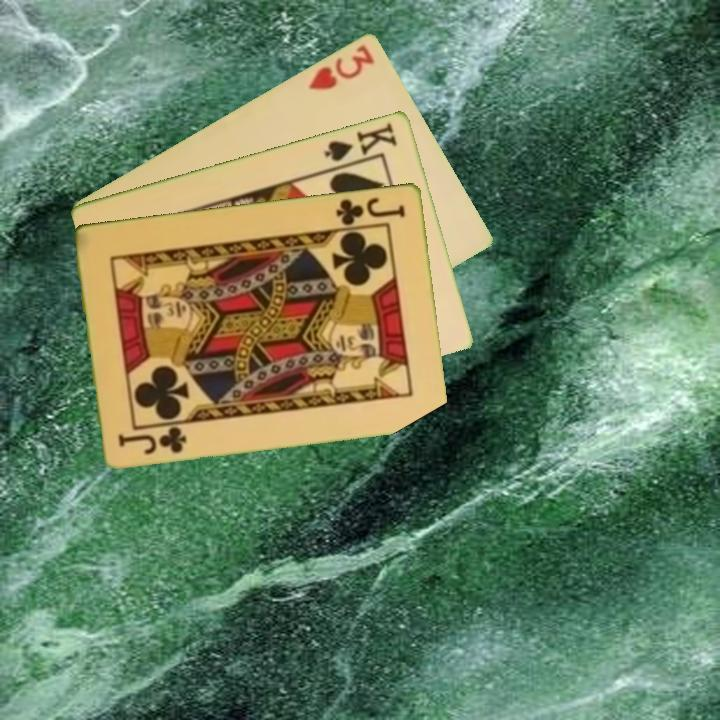3h: (305, 40, 378, 93)
Jc: (115, 422, 190, 457), (333, 194, 409, 228)
Ks: (321, 117, 400, 170)
